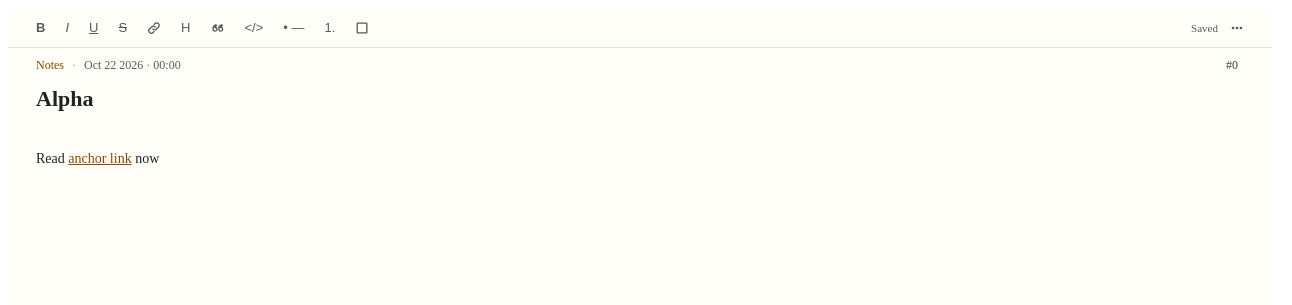
Test: cancelling Edit link changes nothing, and a new link still starts at https://
The width and height of the screenshot is (1292, 305).
Click the link "anchor link" at (100, 158), box [68, 151, 132, 166]
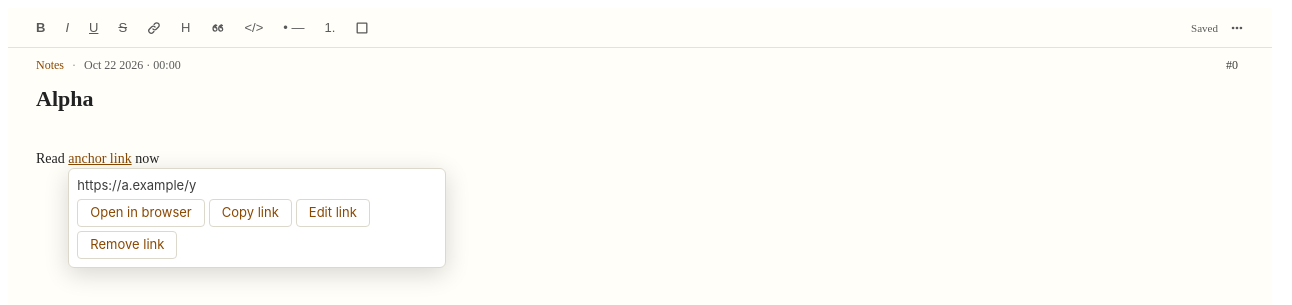
Click the button "Edit link" at (333, 212), box [296, 198, 370, 226]
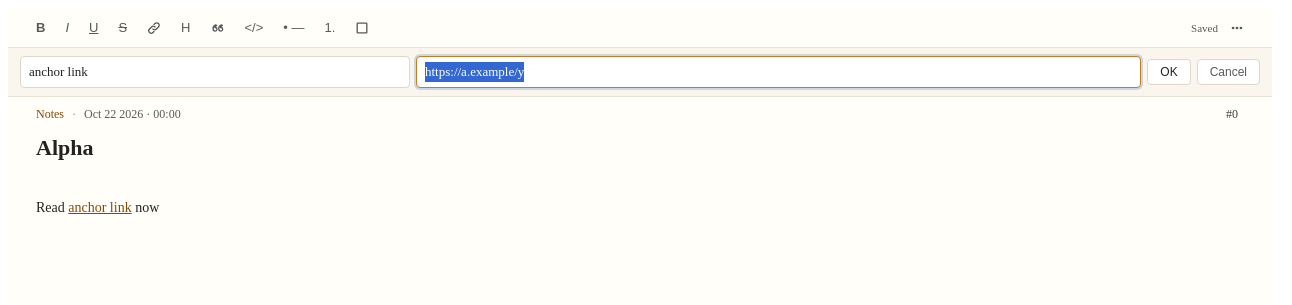
Replace the text in the field with class "link-prompt-url" with "https://changed.example/" at (779, 72), box [416, 56, 1141, 88]
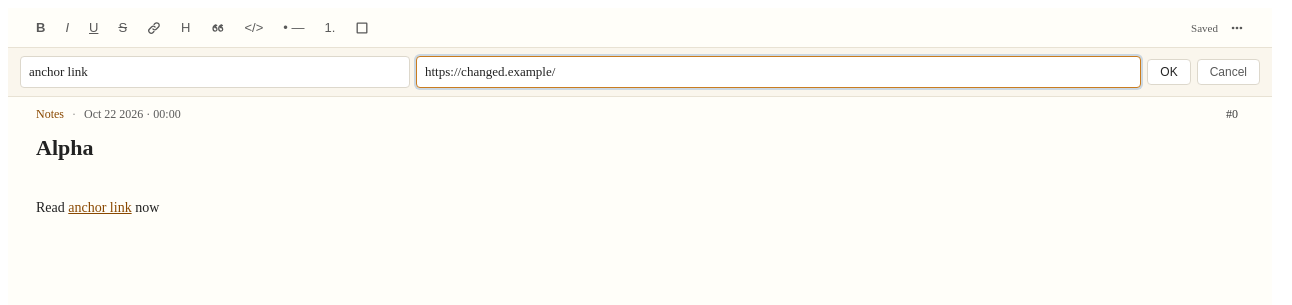
Click the button with class "link-prompt-cancel" at (1228, 72), box [1197, 59, 1260, 85]
Wait 1500 ms
(page scrolled)
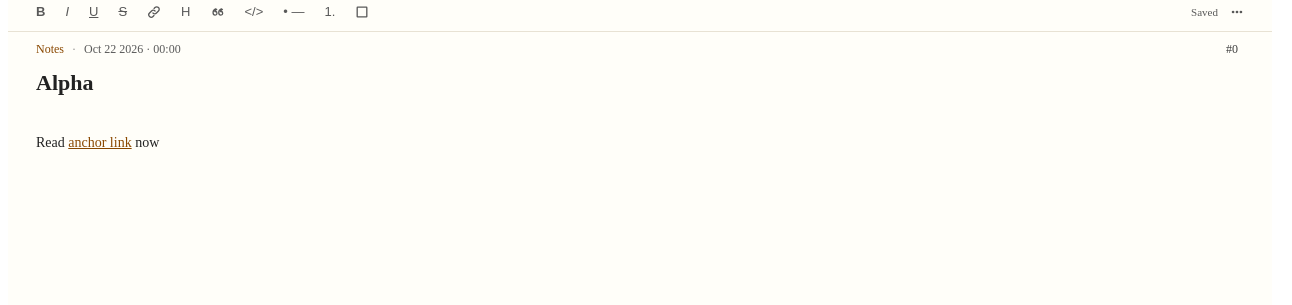
Expected: the element with class "link-prompt" is gone
Press k in the field with class "editor-body", box [36, 135, 159, 150]
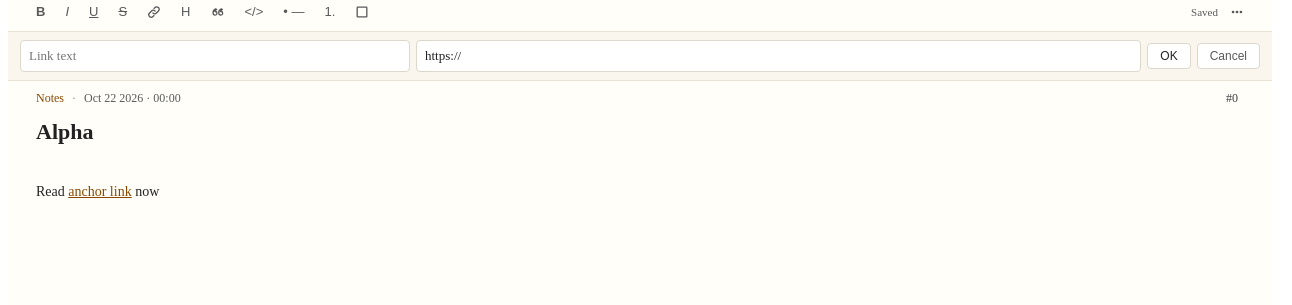
Expected: the field with class "link-prompt-url" holds "https://", [416, 40, 1141, 72]
Expected: the field with class "link-prompt-text" is empty, [20, 40, 410, 72]
